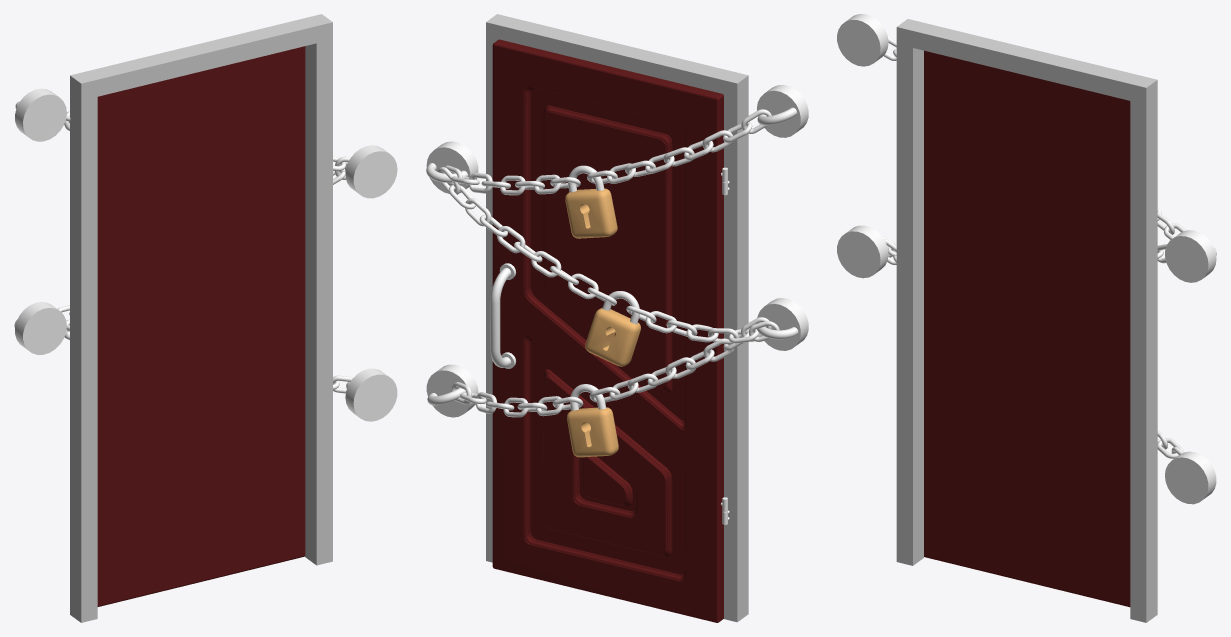
Rendered from final door.fbx.
The picture shows the model from 3 angles, left to right: view 1: azimuth 30°, elevation 25°; view 2: azimuth 150°, elevation 25°; view 3: azimuth 330°, elevation 25°; orthographic projection.
Parts seen in each view (by area): view 1: door 3, door 3 frame, anchor 4, anchor 1, anchor 2, anchor 3; view 2: door 3, door 3 frame, chain 2, chain 1, lock 2, chain 3, lock 1, lock 3, anchor 1, anchor 3, chain 2 2, anchor 4 (+4 smaller); view 3: door 3, door 3 frame, anchor 3, anchor 2, anchor 4, anchor 1.
Part boxes in pixels (x1,y1,x2,y2): door 3: (97, 46, 305, 606); door 3 frame: (70, 14, 332, 622); anchor 4: (345, 368, 397, 421); anchor 1: (15, 88, 66, 141); anchor 2: (345, 145, 397, 198); anchor 3: (14, 302, 66, 354); door 3: (492, 39, 727, 622); door 3 frame: (486, 14, 748, 622); chain 2: (437, 167, 616, 305); chain 1: (587, 109, 771, 183); lock 2: (585, 307, 640, 366); chain 3: (589, 317, 771, 402); lock 1: (565, 188, 617, 238); lock 3: (567, 407, 618, 457); anchor 1: (757, 84, 808, 137); anchor 3: (757, 298, 808, 350); chain 2 2: (626, 306, 779, 344); anchor 4: (426, 364, 478, 417); door 3: (924, 50, 1130, 607); door 3 frame: (896, 19, 1157, 622); anchor 3: (837, 225, 888, 278); anchor 2: (1165, 230, 1216, 282); anchor 4: (1165, 451, 1216, 504); anchor 1: (837, 14, 888, 66).
Size of what is drawn, in the model's own units: 149 by 205 by 28.56.
